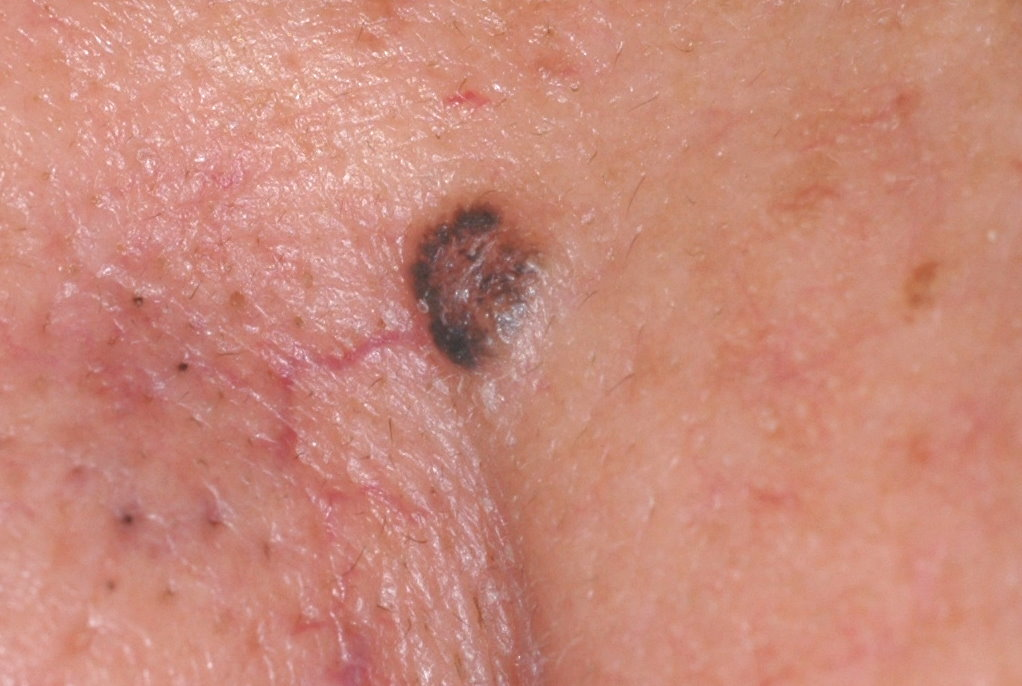Color changes: (424, 296, 492, 358)
